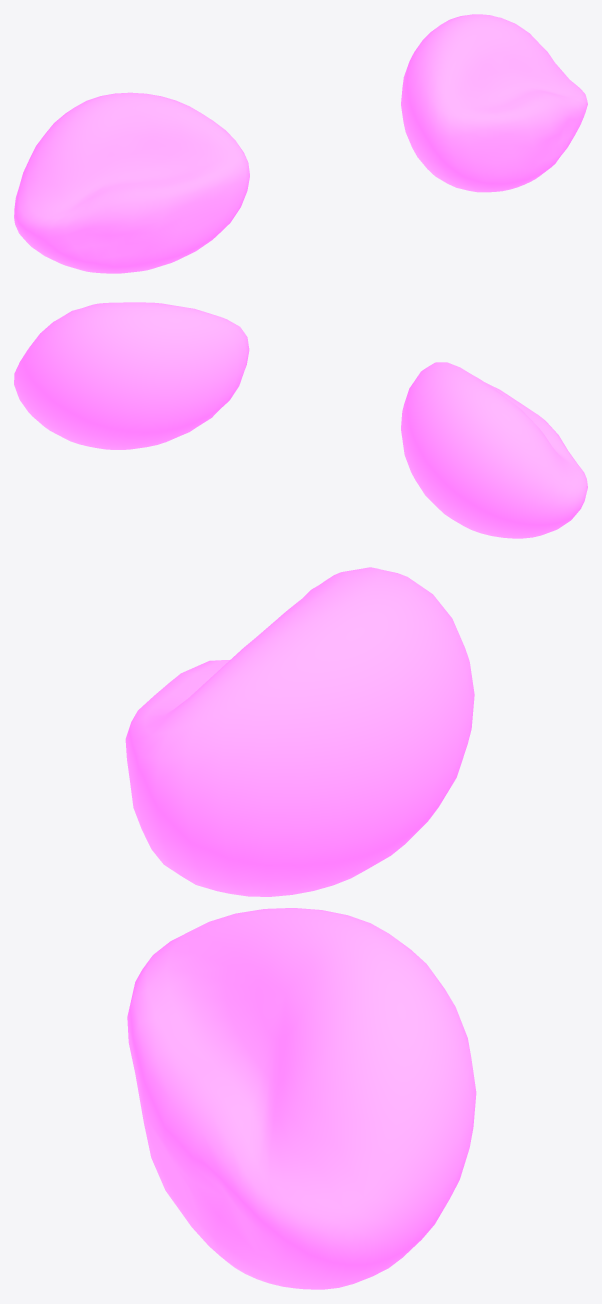
The model's file is Zombie-Pink.glb.
3 renders of one model, top to bottom at view 1: azimuth 30°, elevation 25°; view 2: azimuth 150°, elevation 25°; view 3: azimuth 270°, elevation 25°, orthographic. The views are drawn at different scales.
Parts seen in each view (by area): view 1: Sphere.001; view 2: Sphere.001; view 3: Sphere.001.
Boxes of the visible parts, box(x1,y1,x2,y2) form: Sphere.001: box(14, 14, 587, 273); Sphere.001: box(14, 302, 587, 538); Sphere.001: box(125, 567, 476, 1289).
Bounding box in the file's own units: 0.3788 × 0.1042 × 0.1024.
